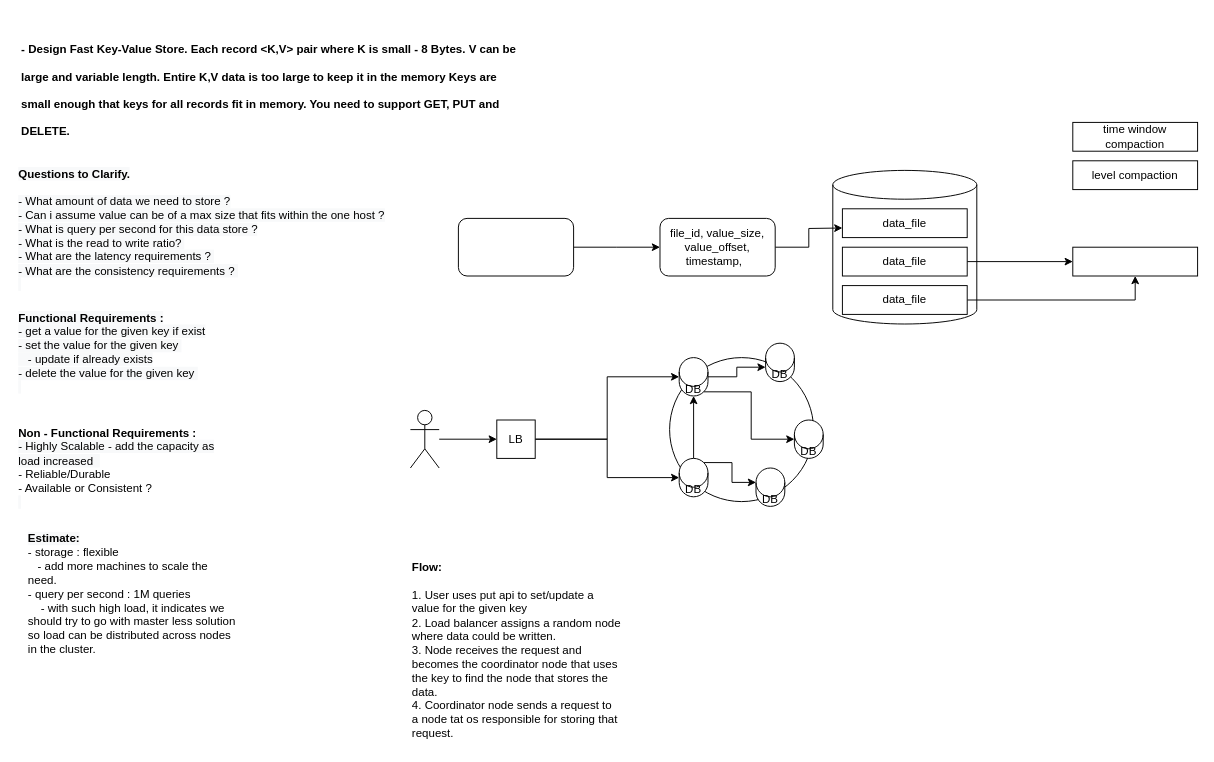
Some shapes in this 1214 by 762 pixel diagram are drawn without their labels. Each missing label, with the centre of its shape:
Actor: the point at 424,438
Key: the point at 515,246
merge: the point at 1135,261
